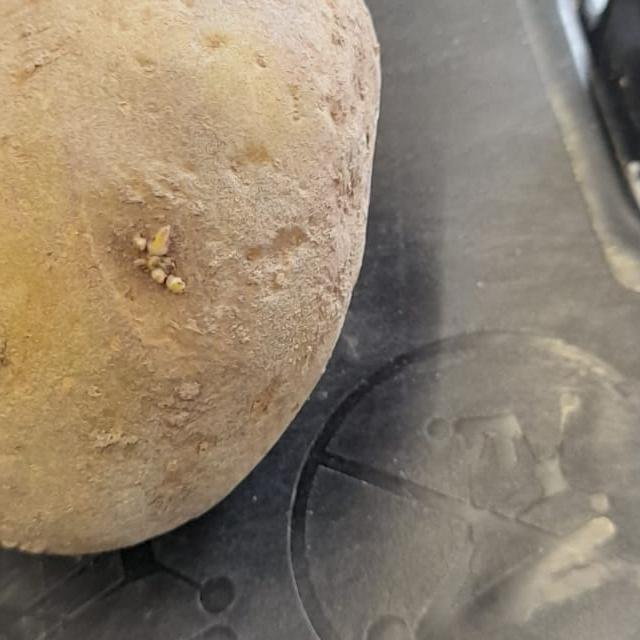potato: (0, 0, 430, 583)
